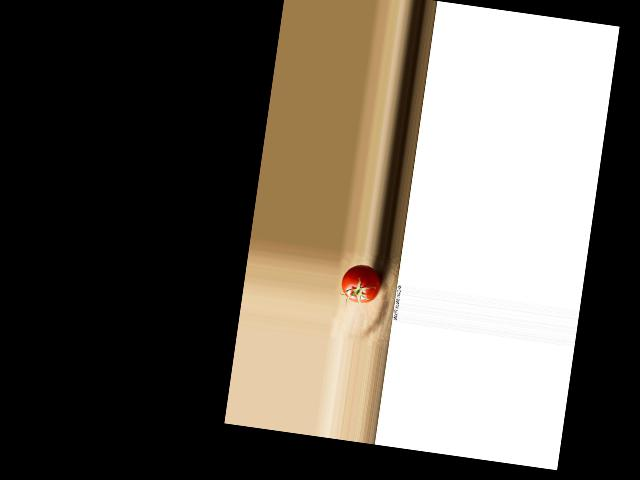tomato: (340, 263, 382, 306)
